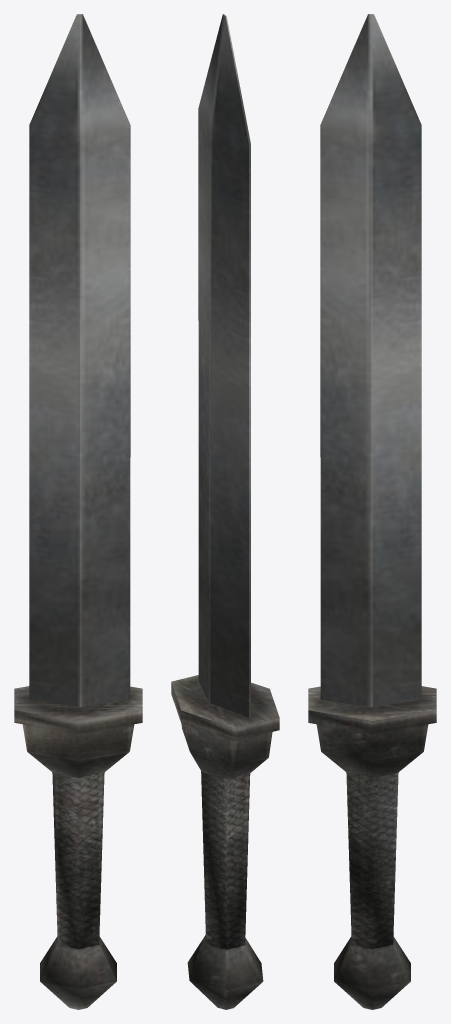
Rendered from weapons_sword13.glb.
3 renders of one model, left to right at view 1: azimuth 90°, elevation 25°; view 2: azimuth 210°, elevation 25°; view 3: azimuth 270°, elevation 25°, orthographic.
Parts seen in each view (by area): view 1: sword13; view 2: sword13; view 3: sword13.
Boxes of the visible parts, bbox=[...] form: sword13: bbox=[14, 14, 142, 1009]; sword13: bbox=[171, 14, 279, 1009]; sword13: bbox=[308, 14, 436, 1009].
Size of the model in its own units: 0.0727 by 0.7755 by 0.0908.
Materials: 1 (1 with a texture image).
